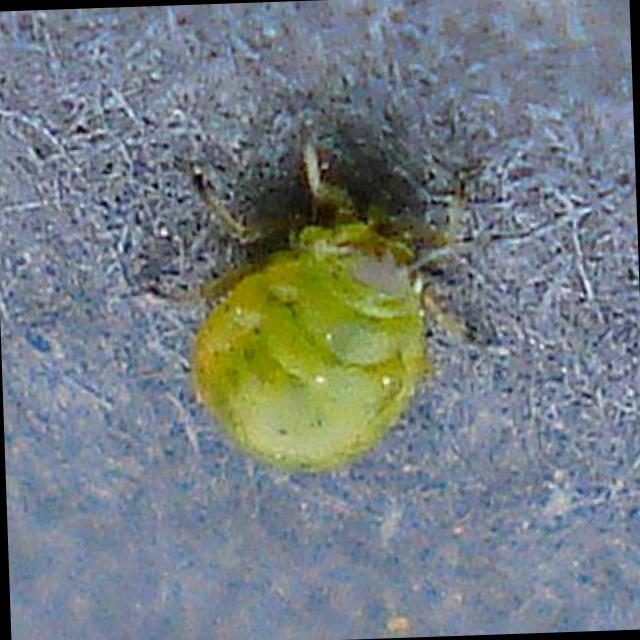Aphids: (151, 123, 530, 518)
